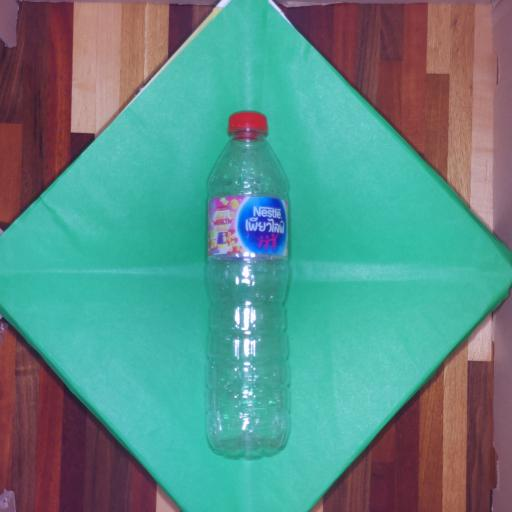bottle: (208, 111, 288, 453)
